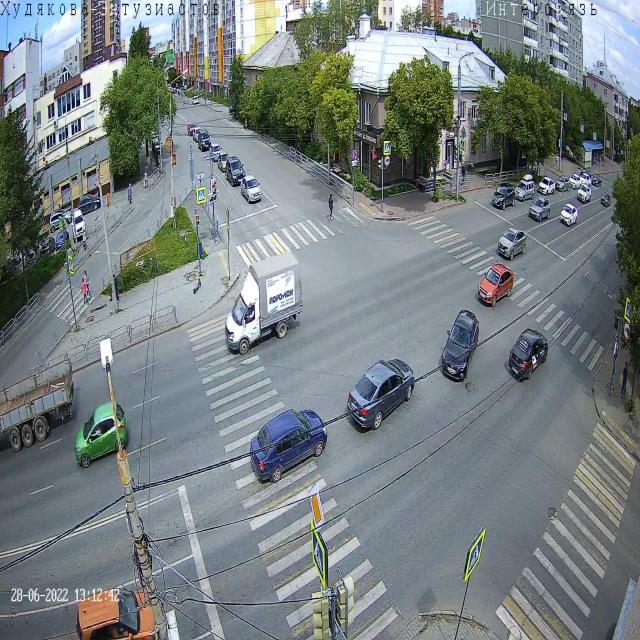car: (250, 407, 328, 484), (75, 582, 166, 640), (347, 358, 416, 430), (74, 400, 128, 469), (441, 308, 479, 381), (509, 327, 548, 380), (477, 259, 514, 307), (497, 224, 526, 261), (492, 182, 516, 211), (225, 156, 246, 188), (240, 174, 262, 204), (514, 173, 534, 203), (528, 195, 550, 222), (560, 202, 578, 227), (538, 176, 556, 197), (217, 151, 233, 173), (198, 128, 212, 152), (554, 174, 570, 194), (577, 184, 591, 204), (210, 143, 223, 163), (568, 173, 582, 191), (578, 172, 591, 189), (579, 167, 592, 182), (192, 127, 204, 142), (601, 190, 611, 208), (591, 173, 602, 187), (188, 122, 198, 136), (154, 139, 163, 154), (150, 126, 158, 139), (192, 96, 199, 104)
pedestrian: (610, 335, 619, 376), (620, 361, 628, 398), (81, 277, 90, 306), (112, 272, 120, 304), (84, 269, 92, 299), (328, 193, 334, 222), (127, 182, 133, 206), (82, 229, 88, 253), (143, 170, 149, 190), (461, 162, 465, 185), (146, 154, 151, 172), (260, 123, 264, 139), (242, 115, 246, 130), (245, 118, 248, 131), (555, 151, 557, 167), (204, 95, 207, 105), (592, 153, 594, 168), (594, 154, 596, 167), (599, 156, 601, 169)
truck: (225, 250, 302, 356), (0, 356, 75, 456)
